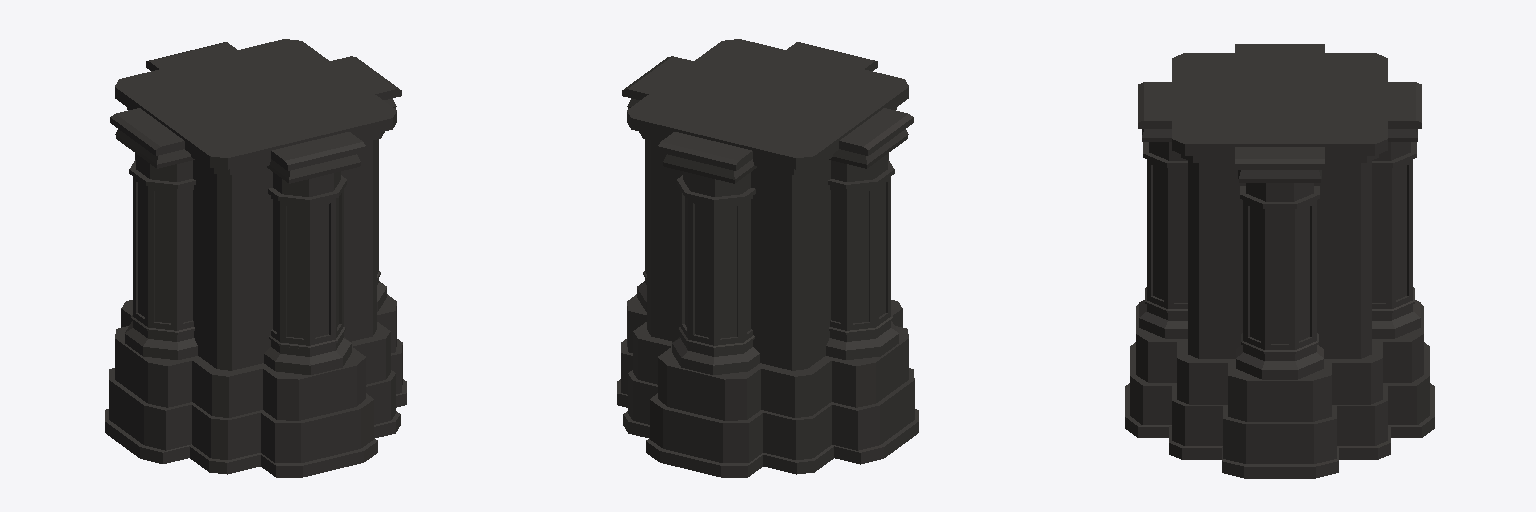
Rendered from Pedestal.obj.
3 renders of one model, left to right at view 1: azimuth 30°, elevation 25°; view 2: azimuth 150°, elevation 25°; view 3: azimuth 270°, elevation 25°, orthographic.
Size of the model in its own units: 1.95 by 2.19 by 1.96.